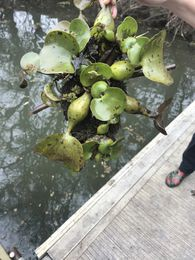water_hyacinth: (23, 6, 175, 164)
